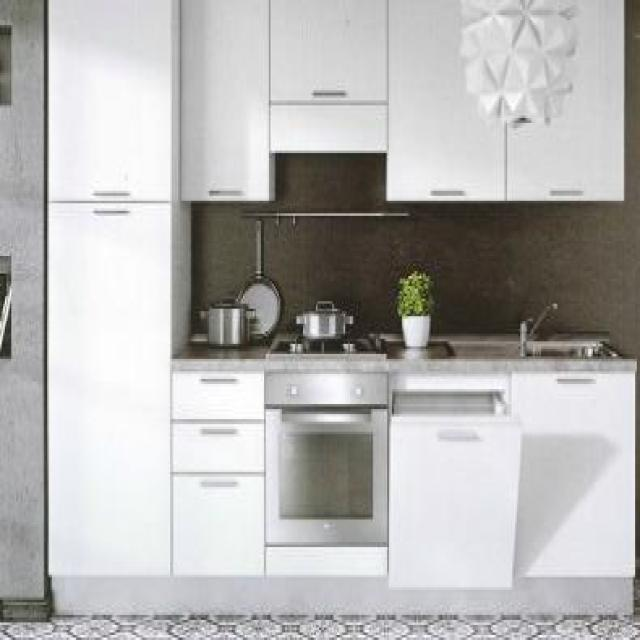dishwasher: (384, 374, 522, 587)
